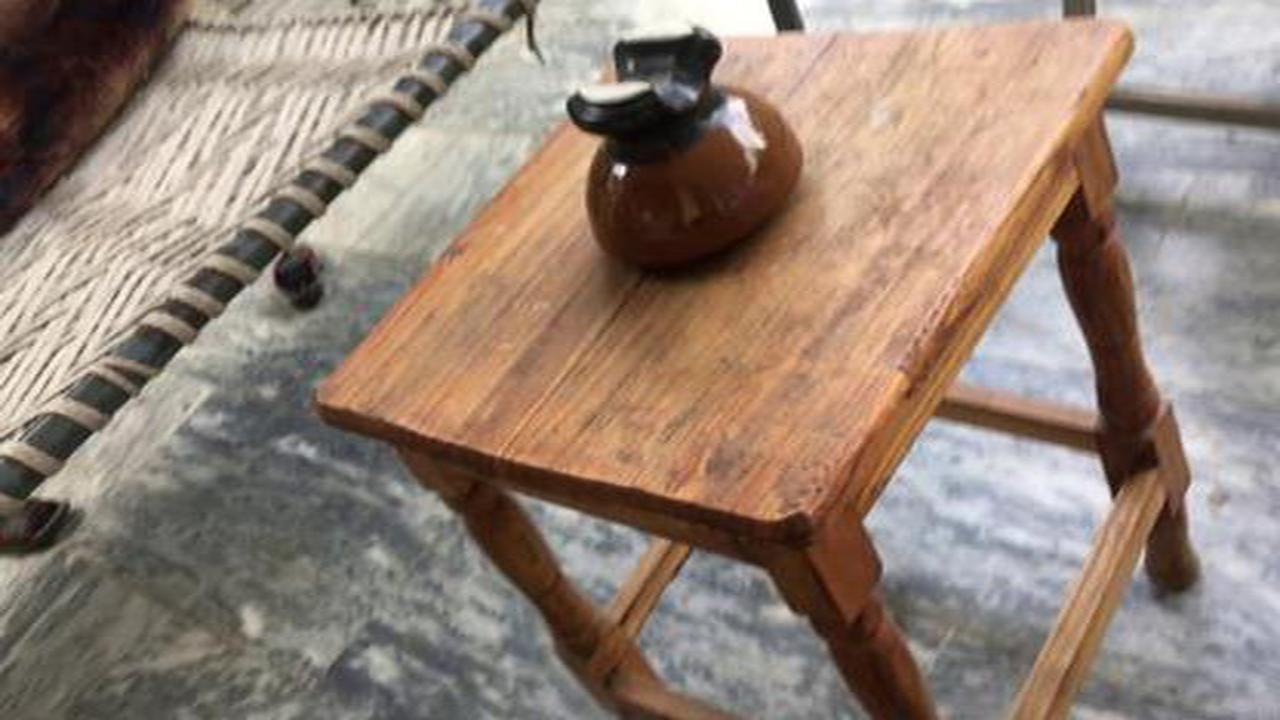insulator_pin: (545, 18, 825, 290)
